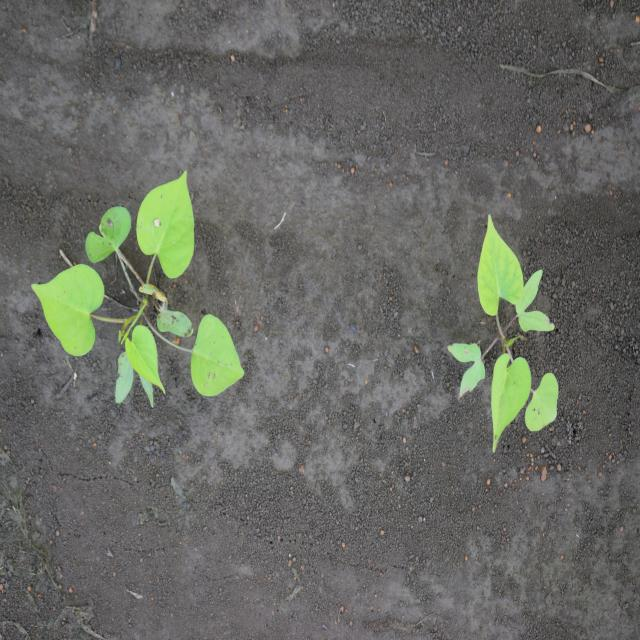MorningGlory: (30, 168, 246, 411), (446, 214, 560, 457)
